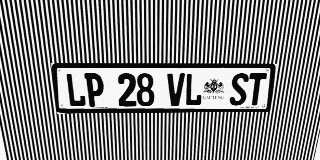2: (117, 73, 136, 106)
8: (136, 73, 154, 106)
L: (65, 73, 86, 107), (184, 73, 203, 106)
P: (84, 73, 105, 107)
S: (229, 73, 249, 106)
T: (246, 73, 267, 105)
V: (167, 73, 185, 106)
